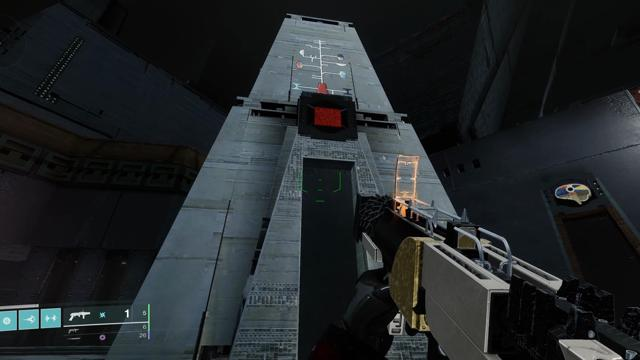brain: (549, 179, 599, 208)
stop: (307, 100, 349, 134)
